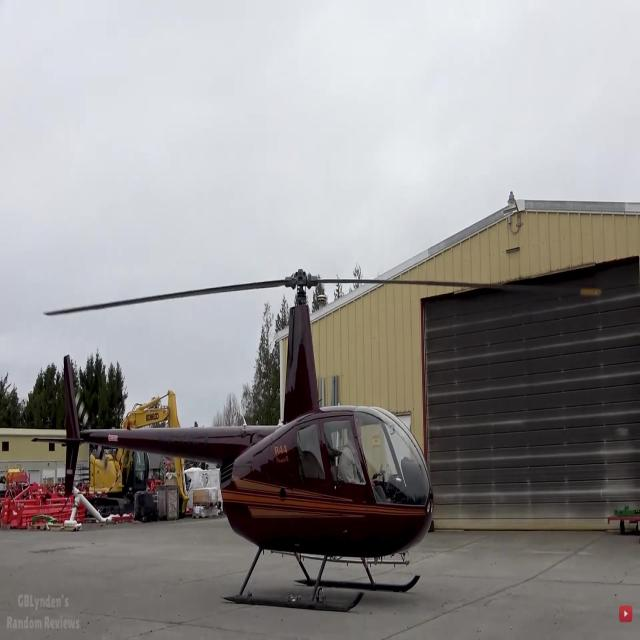CIV_HELO: (30, 268, 436, 617)
